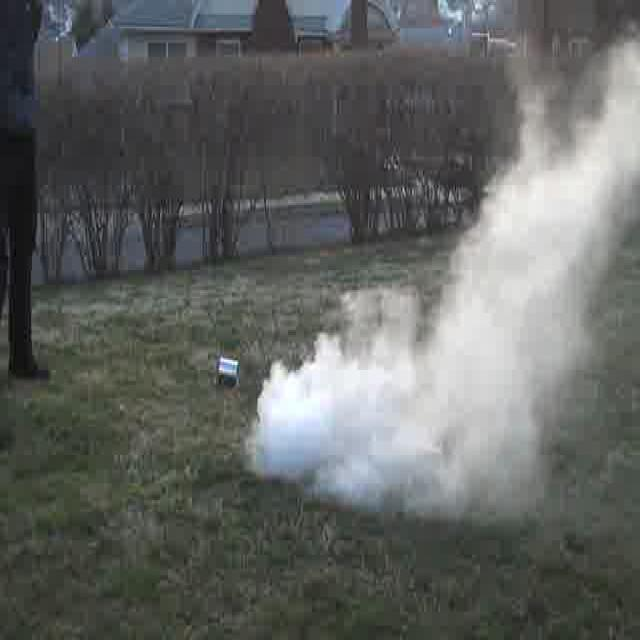Smoke: (289, 255, 583, 530)
